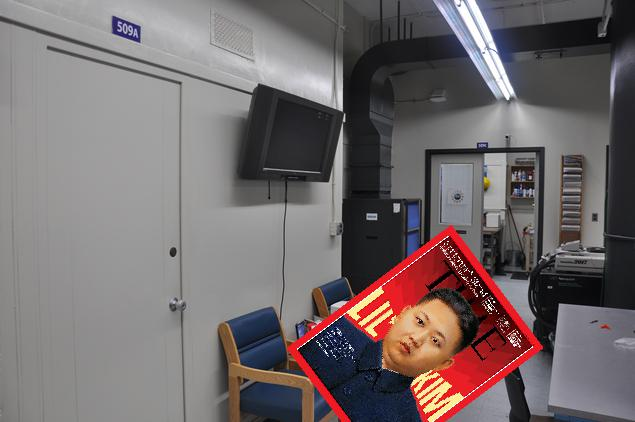times: (286, 224, 546, 422)
